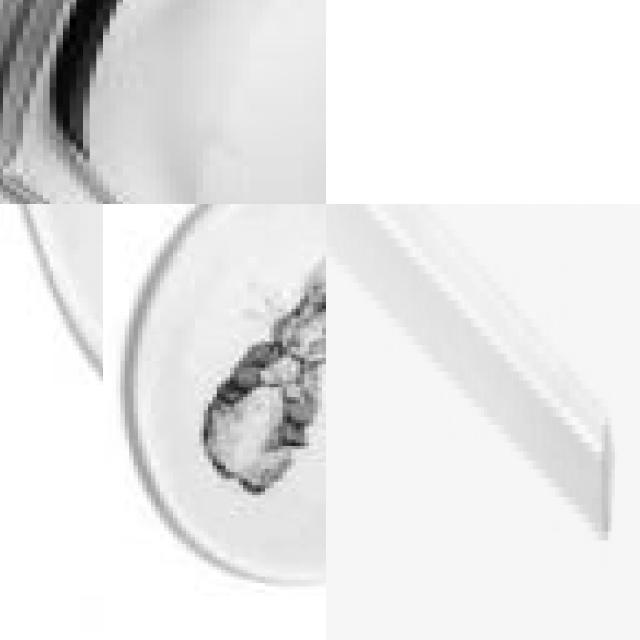spoons: (33, 204, 326, 547), (0, 0, 326, 204)
